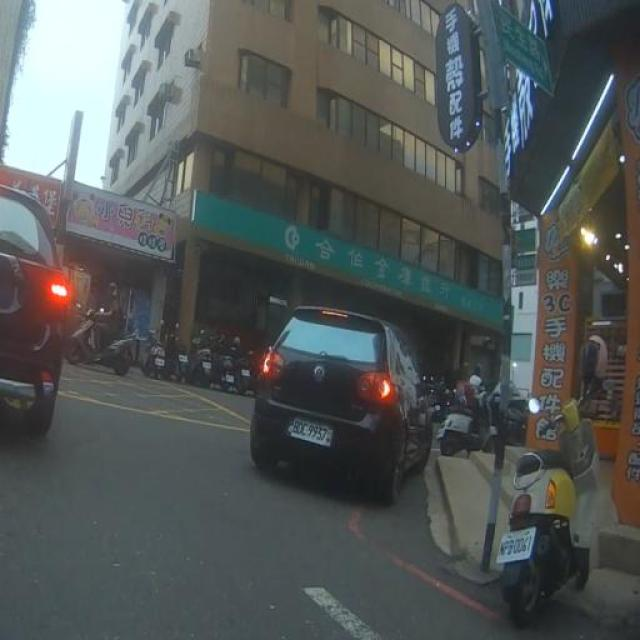illegalparking: (232, 296, 458, 528)
